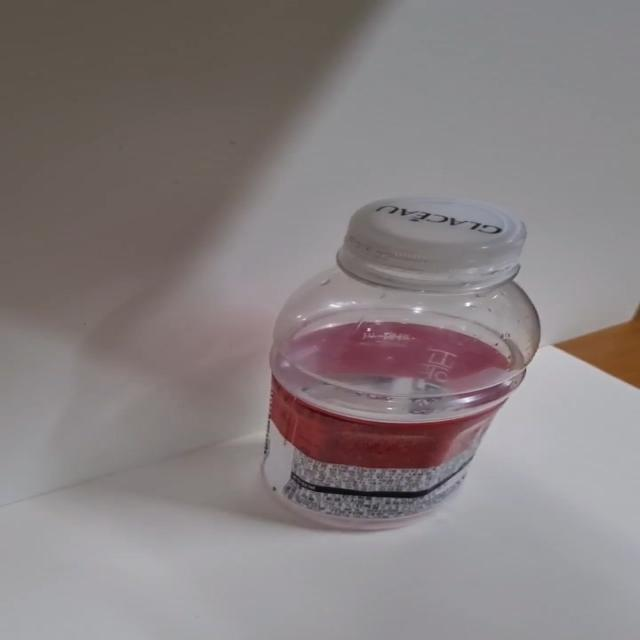Plastic: (260, 195, 541, 536)
